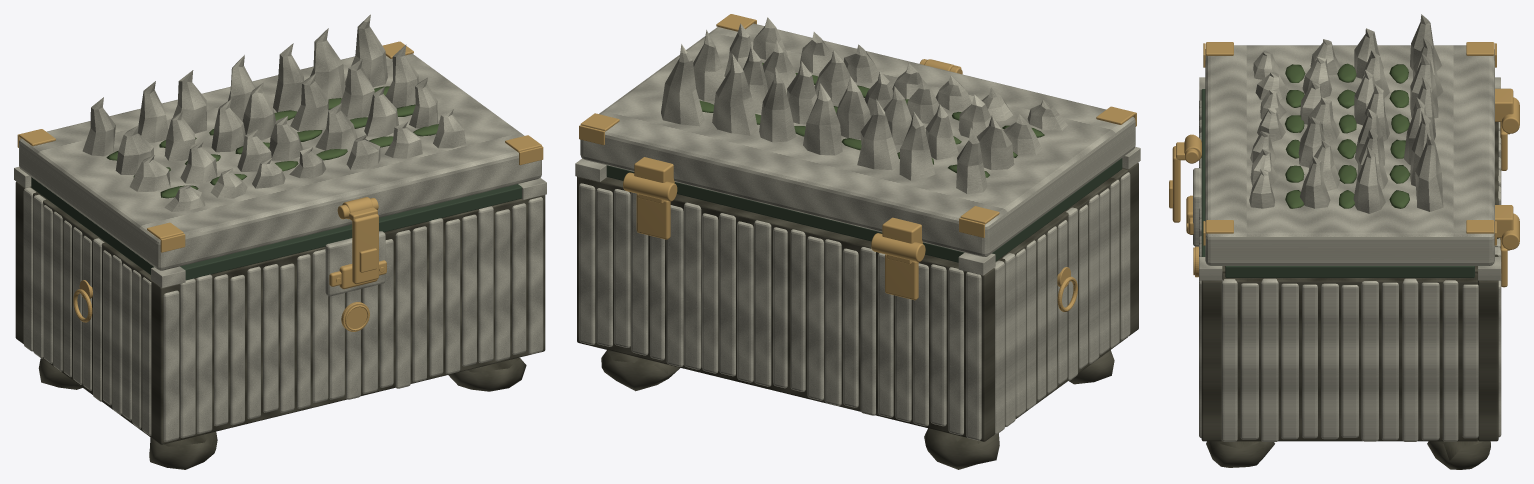
File: madagascar.glb
3 renders of one model, left to right at view 1: azimuth 30°, elevation 25°; view 2: azimuth 150°, elevation 25°; view 3: azimuth 270°, elevation 25°, orthographic. The views are drawn at different scales.
Visible parts, largest first — view 1: Lid / polished slab, Limestone / continuous wall, Mineral seam / long, Limestone / side shell, Limestone / vertical flute.002, Limestone / vertical flute, Limestone / vertical flute.001, Limestone / vertical flute.014, Limestone / vertical flute.022, Limestone / vertical flute.019, Limestone / vertical flute.017, Limestone / vertical flute.009 (+65 smaller); view 2: Lid / polished slab, Limestone / continuous wall.001, Limestone / side shell, Mineral seam / long.001, Limestone / vertical flute.039, Limestone / vertical flute.031, Limestone / vertical flute.035, Limestone / vertical flute.032, Limestone / vertical flute.040, Limestone / vertical flute.037, Limestone / vertical flute.025, Limestone / vertical flute.045 (+68 smaller); view 3: Lid / polished slab, Limestone / side shell.001, Limestone / continuous wall.001, Limestone / continuous wall, Limestone / side flute.023, Mineral seam / side.001, Limestone / side flute.014, Limestone / side flute.015, Limestone / side flute.020, Limestone / side flute.021, Limestone / side flute.016, Limestone / side flute.018 (+51 smaller).
Part boxes in pixels (x1=…): Lid / polished slab: x1=19, y1=54, x2=541, y2=270; Limestone / continuous wall: x1=151, y1=195, x2=545, y2=444; Mineral seam / long: x1=180, y1=184, x2=521, y2=280; Limestone / side shell: x1=31, y1=187, x2=151, y2=437; Limestone / vertical flute.002: x1=196, y1=274, x2=212, y2=433; Limestone / vertical flute: x1=163, y1=290, x2=179, y2=441; Limestone / vertical flute.001: x1=180, y1=278, x2=195, y2=438; Limestone / vertical flute.014: x1=395, y1=230, x2=410, y2=388; Limestone / vertical flute.022: x1=528, y1=197, x2=543, y2=354; Limestone / vertical flute.019: x1=478, y1=206, x2=493, y2=363; Limestone / vertical flute.017: x1=445, y1=219, x2=460, y2=374; Limestone / vertical flute.009: x1=312, y1=249, x2=328, y2=402; Lid / polished slab: x1=580, y1=23, x2=1135, y2=256; Limestone / continuous wall.001: x1=577, y1=176, x2=994, y2=441; Limestone / side shell: x1=996, y1=168, x2=1128, y2=426; Mineral seam / long.001: x1=606, y1=165, x2=964, y2=262; Limestone / vertical flute.039: x1=684, y1=202, x2=701, y2=369; Limestone / vertical flute.031: x1=824, y1=239, x2=841, y2=405; Limestone / vertical flute.035: x1=754, y1=220, x2=771, y2=386; Limestone / vertical flute.032: x1=807, y1=236, x2=823, y2=400; Limestone / vertical flute.040: x1=666, y1=205, x2=683, y2=366; Limestone / vertical flute.037: x1=719, y1=213, x2=735, y2=376; Limestone / vertical flute.025: x1=930, y1=264, x2=946, y2=426; Limestone / vertical flute.045: x1=579, y1=183, x2=595, y2=344; Lid / polished slab: x1=1205, y1=45, x2=1494, y2=265; Limestone / side shell.001: x1=1222, y1=273, x2=1477, y2=441; Limestone / continuous wall.001: x1=1478, y1=122, x2=1498, y2=441; Limestone / continuous wall: x1=1201, y1=280, x2=1221, y2=441; Limestone / side flute.023: x1=1421, y1=282, x2=1439, y2=440; Mineral seam / side.001: x1=1225, y1=266, x2=1474, y2=277; Limestone / side flute.014: x1=1240, y1=283, x2=1258, y2=439; Limestone / side flute.015: x1=1261, y1=278, x2=1278, y2=441; Limestone / side flute.020: x1=1361, y1=281, x2=1378, y2=441; Limestone / side flute.021: x1=1381, y1=282, x2=1398, y2=440; Limestone / side flute.016: x1=1281, y1=283, x2=1298, y2=439; Limestone / side flute.018: x1=1321, y1=283, x2=1338, y2=439.
Size of the model in its own units: 3.8 by 2.92 by 2.88.
Materials: 5 (2 with a texture image).
